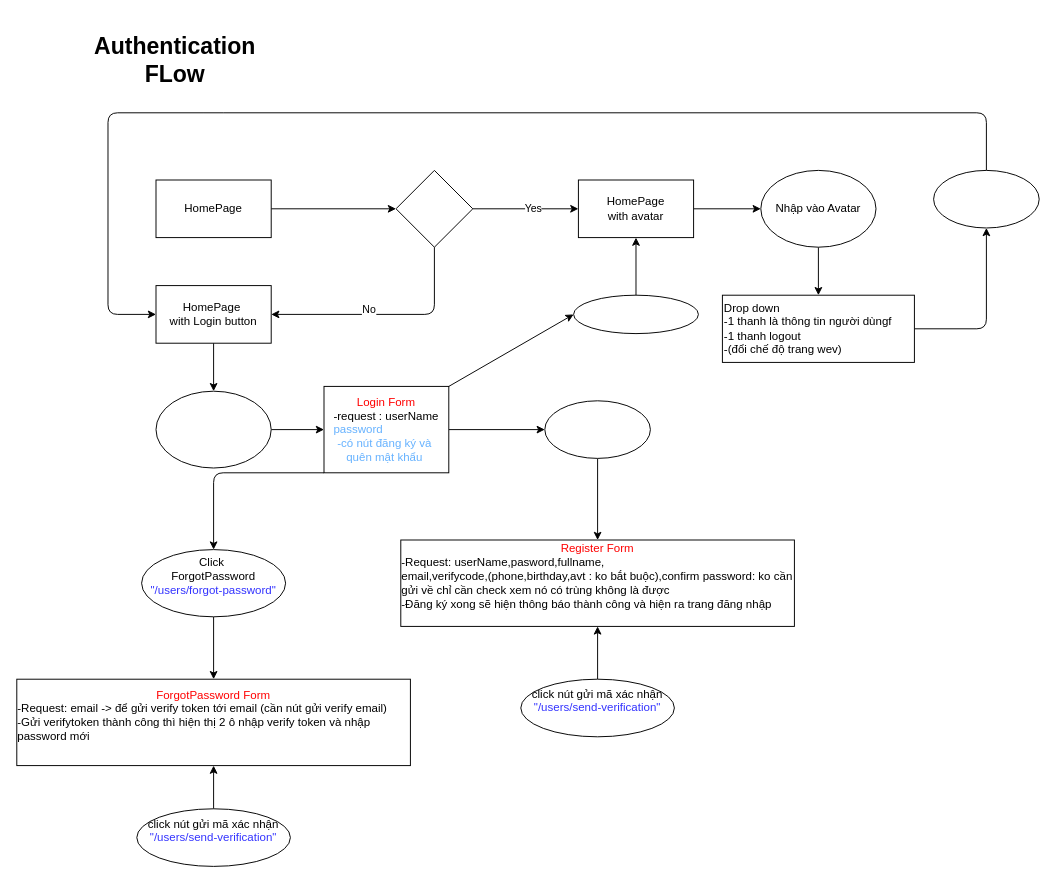
Image size: 1056x883. Some labels were removed from this diagram. Here are the shapes that lost their labels. From the top down, the centre of each, then its label:
point (434, 208): Login ?
point (986, 198): Click button Logout "/users/logout"
point (635, 314): Click nút đăng nhập "/users/login"
point (213, 429): Click Login Button
point (597, 429): Click button Register "/users/register"
